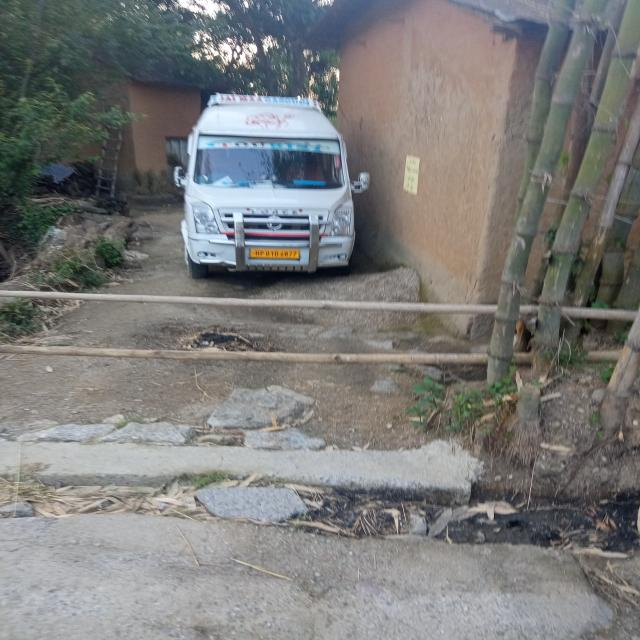Bus: (153, 87, 370, 299)
